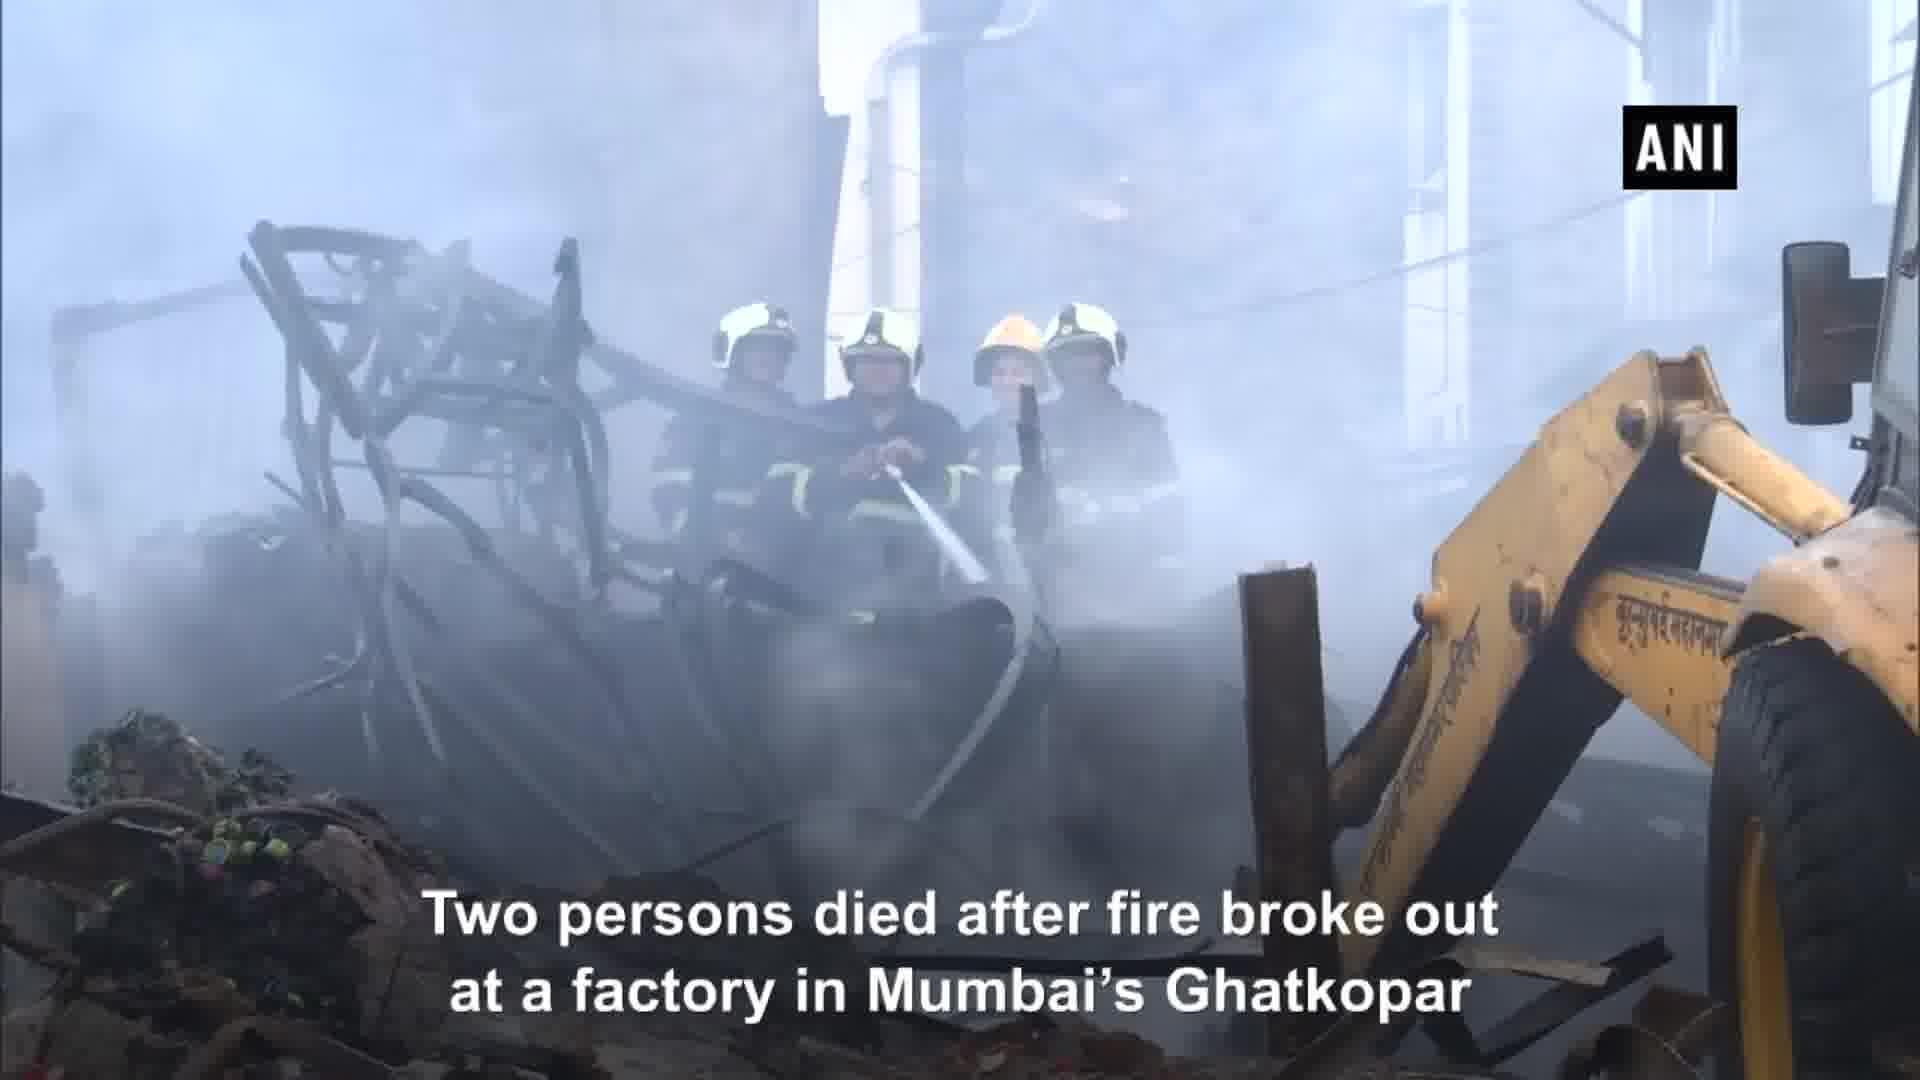smoke: (54, 30, 1578, 214), (1196, 224, 1501, 564), (58, 240, 272, 538)
